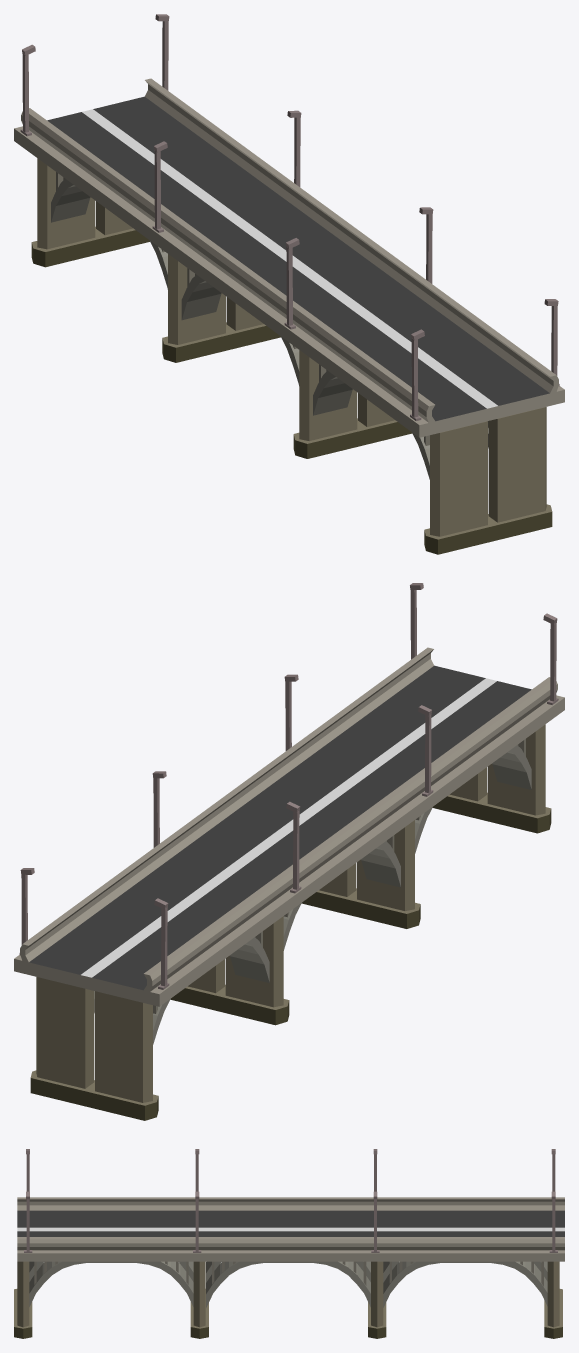
The picture shows the model from 3 angles, top to bottom: view 1: azimuth 30°, elevation 25°; view 2: azimuth 150°, elevation 25°; view 3: azimuth 270°, elevation 25°; orthographic projection. The views are drawn at different scales.
Visible parts, largest first — view 1: Cube.001, Cube, Cube.003, Circle; view 2: Cube.001, Cube, Cube.003, Circle; view 3: Cube.001, Circle, Cube, Cube.003, Cube.004.
Part boxes in pixels (x1,y1,x2,y2): Cube.001: [14, 78, 564, 437]; Cube: [31, 158, 552, 554]; Cube.003: [20, 14, 559, 420]; Circle: [51, 178, 488, 479]; Cube.001: [14, 647, 564, 1006]; Cube: [30, 724, 551, 1120]; Cube.003: [19, 583, 558, 989]; Circle: [94, 745, 531, 1044]; Cube.001: [17, 1197, 564, 1261]; Circle: [29, 1261, 547, 1307]; Cube: [14, 1261, 562, 1338]; Cube.003: [24, 1149, 557, 1252]; Cube.004: [34, 1261, 543, 1286].
Size of the model in its own units: 10753 by 15371 by 52155.
